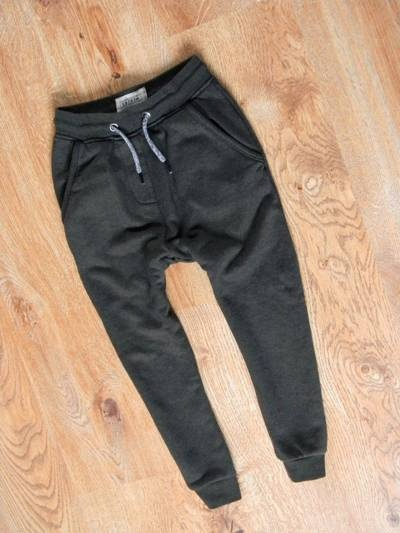Pants: (32, 27, 365, 496)
